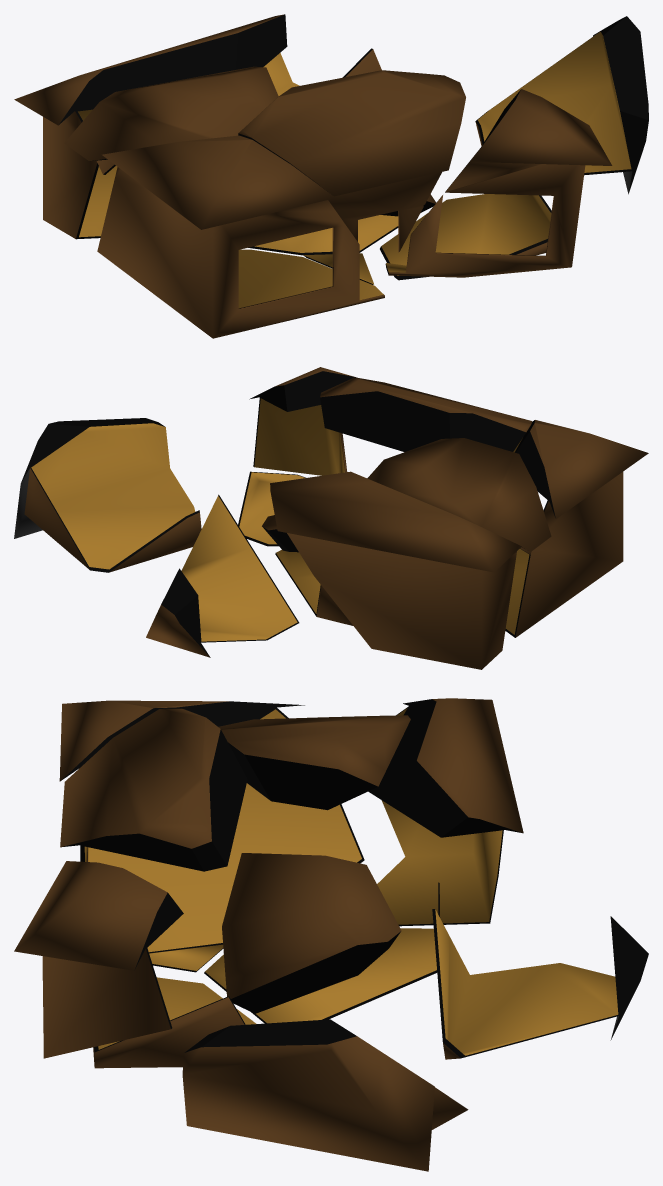
Rendered from brokenHouse3.fbx.
3 renders of one model, top to bottom at view 1: azimuth 30°, elevation 25°; view 2: azimuth 150°, elevation 25°; view 3: azimuth 270°, elevation 25°, orthographic. The views are drawn at different scales.
Visible parts, largest first — view 1: Cube; view 2: Cube; view 3: Cube.
Part boxes in pixels (x1,y1,x2,y2): Cube: (14,14,648,338); Cube: (14,367,648,669); Cube: (14,698,648,1171).
Size of the model in its own units: 2512 by 747 by 2049.
